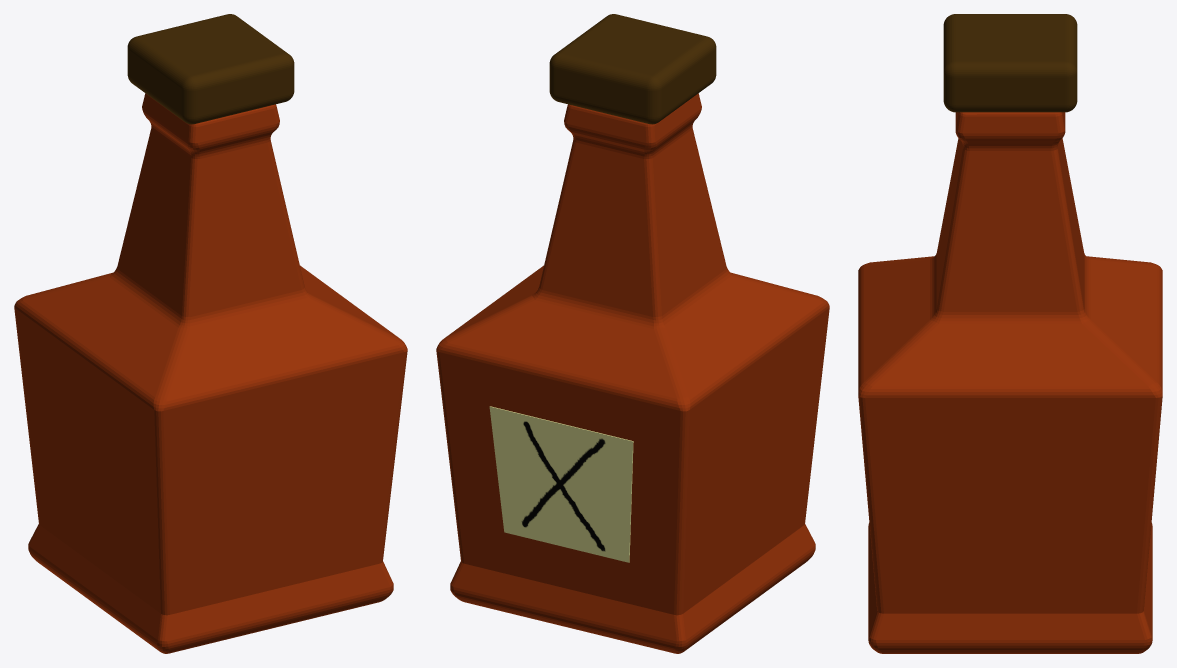
Rendered from Botella_X_Whisky.fbx.
3 renders of one model, left to right at view 1: azimuth 30°, elevation 25°; view 2: azimuth 150°, elevation 25°; view 3: azimuth 270°, elevation 25°, orthographic. The views are drawn at different scales.
Visible parts, largest first — view 1: Botella2.001, Tapon2.002; view 2: Botella2.001, pegatina.002, Tapon2.002; view 3: Botella2.001, Tapon2.002.
Boxes of the visible parts, x1,y1,x2,y2 form: Botella2.001: (14,93,407,653); Tapon2.002: (127,14,294,124); Botella2.001: (436,93,829,653); pegatina.002: (489,406,633,562); Tapon2.002: (549,14,716,124); Botella2.001: (858,112,1162,653); Tapon2.002: (943,14,1077,112).
Size of the model in its own units: 11.52 by 23.43 by 11.52.
Materials: 3 (1 with a texture image).
